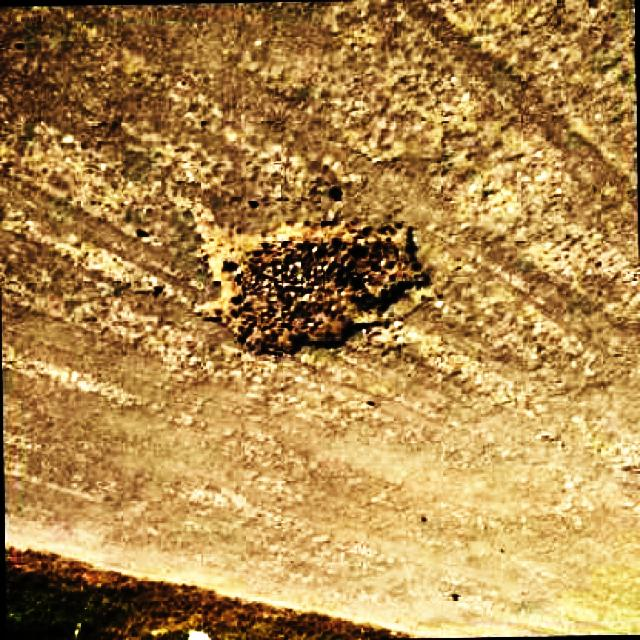pothole: (194, 209, 441, 360)
